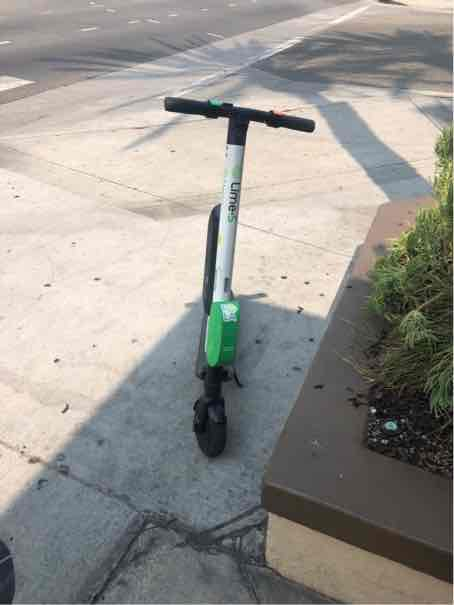scooter: (157, 84, 315, 464)
